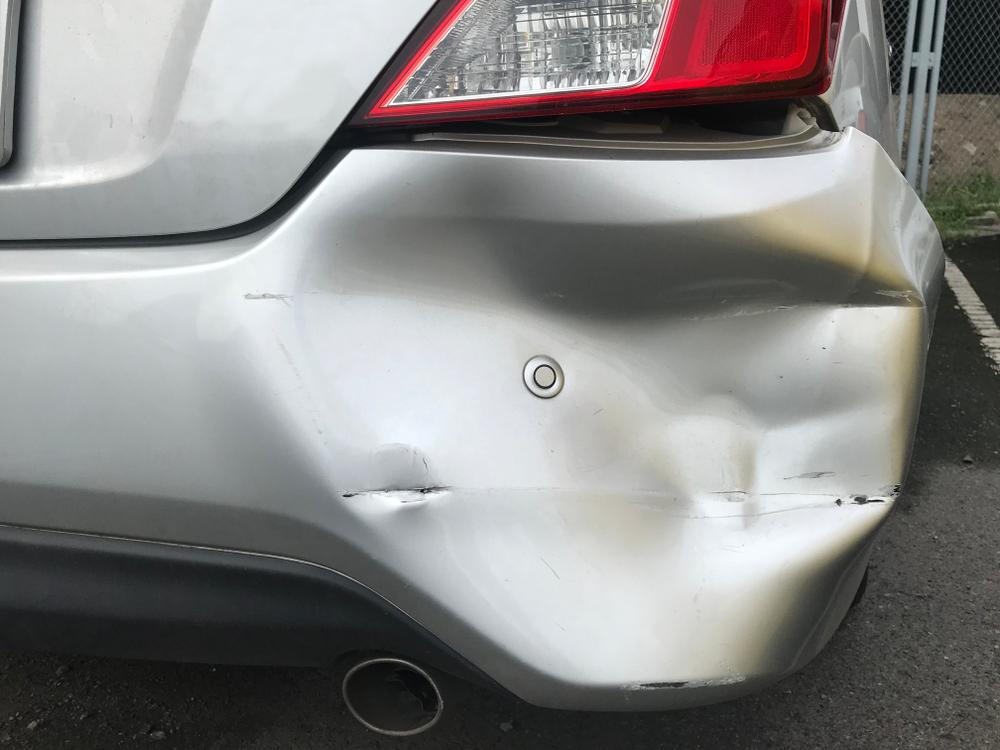dent: (267, 157, 909, 685)
